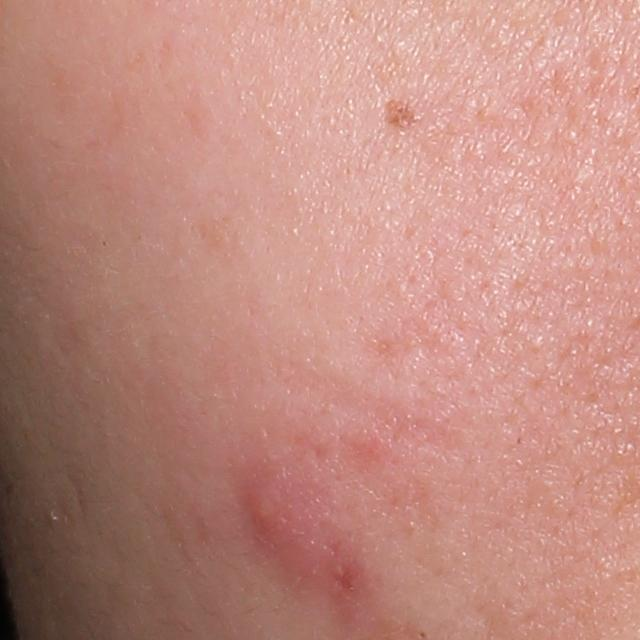melasma: (379, 97, 420, 133)
